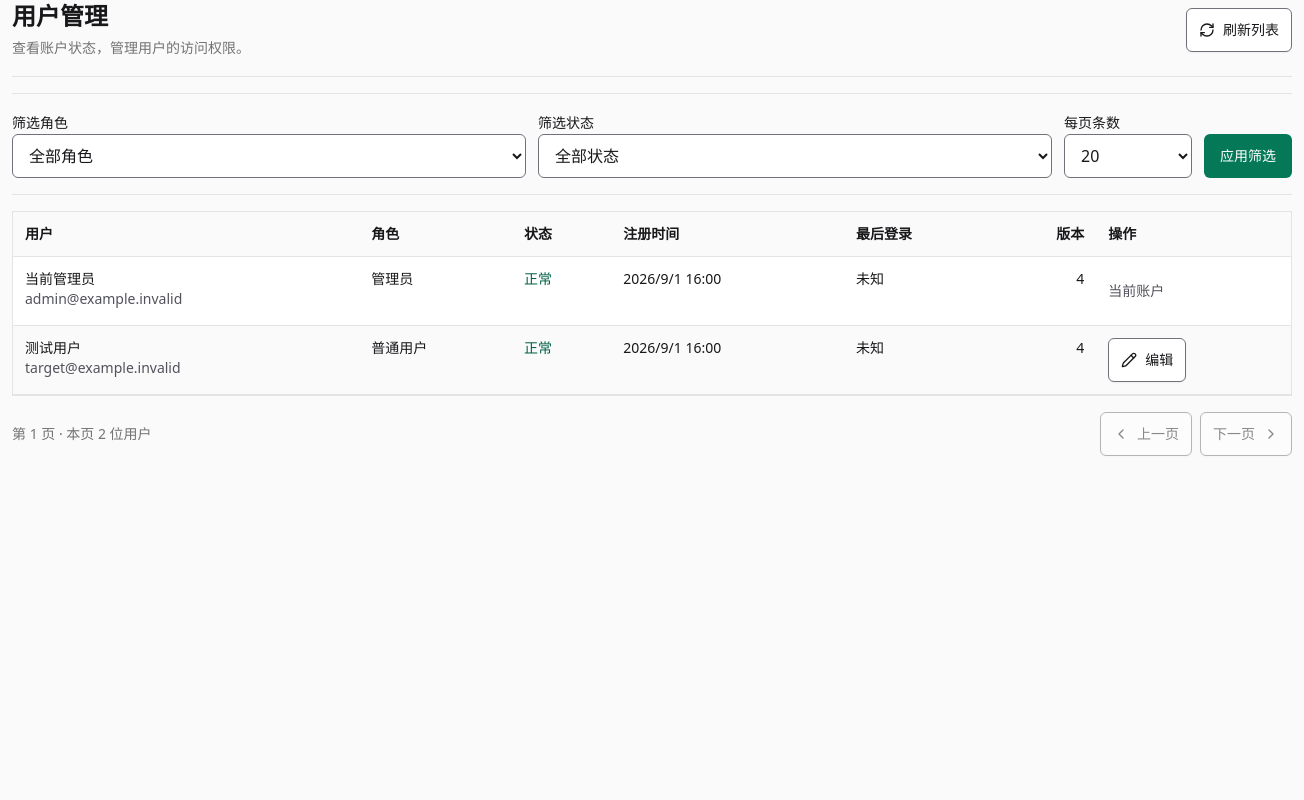
admin/users client › reports a same-value response truthfully without claiming session revocation
Expected: the text "第 1 页 · 本页 2 位用户" is shown, [12, 424, 152, 444]
Click the button "编辑" at (1147, 360), box [1108, 338, 1186, 382]
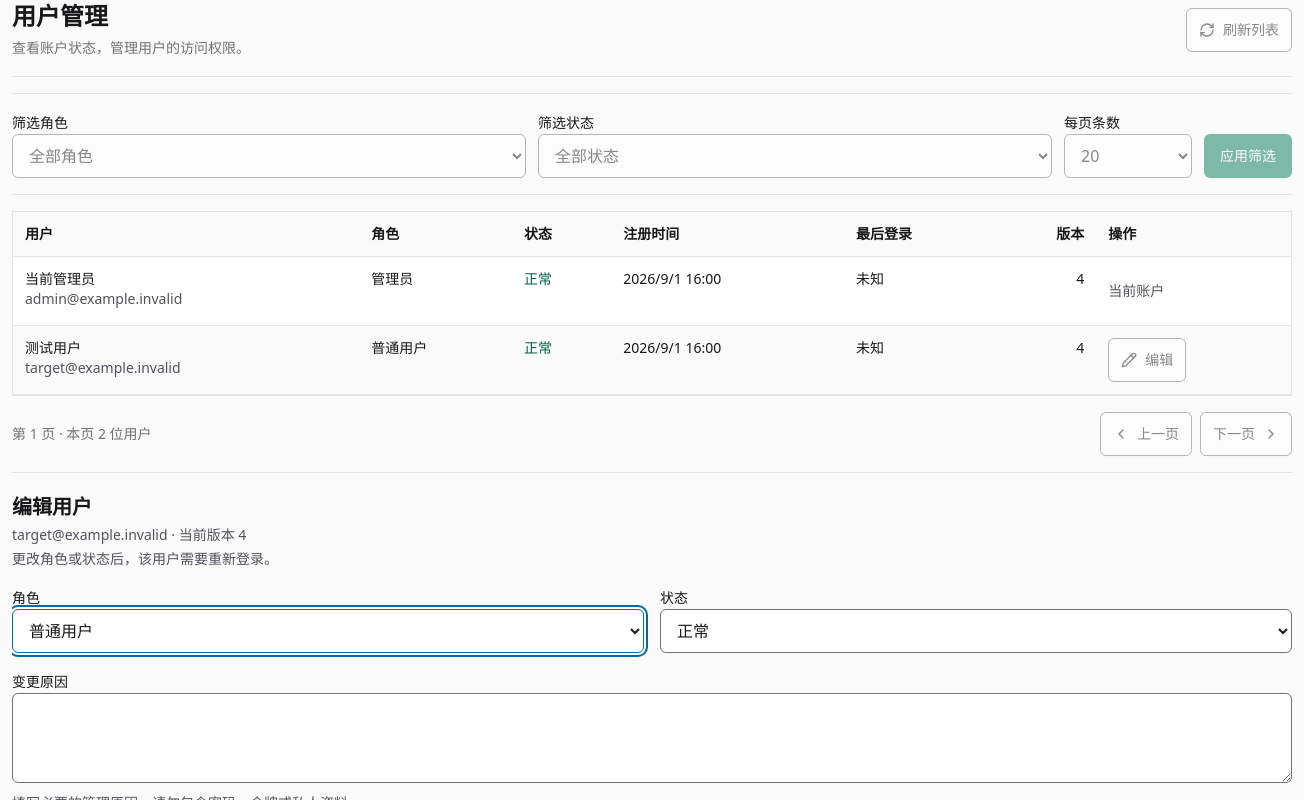
Type "复核账户" into the text box labelled "变更原因" at (652, 738), box [12, 693, 1292, 783]
(page scrolled)
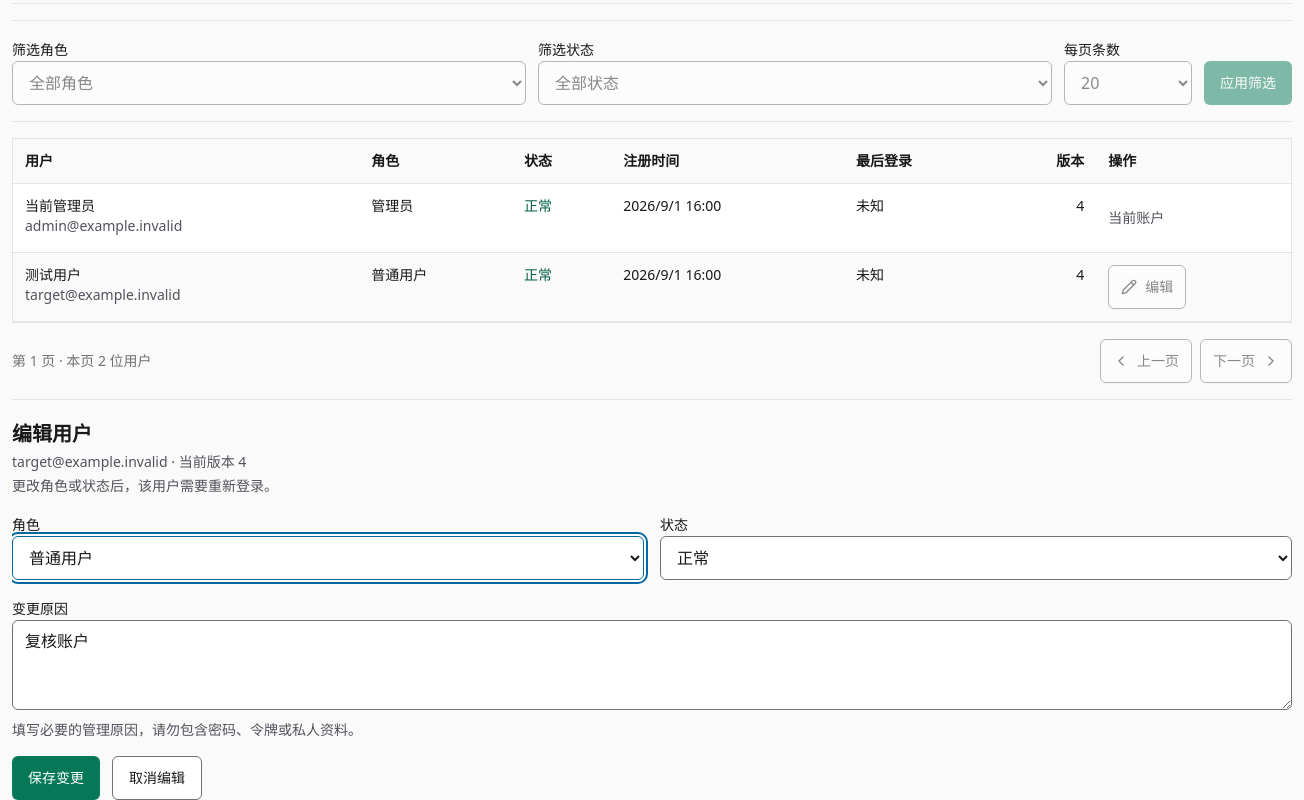
Submit the form "编辑用户", box [12, 399, 1292, 799]
(page scrolled)
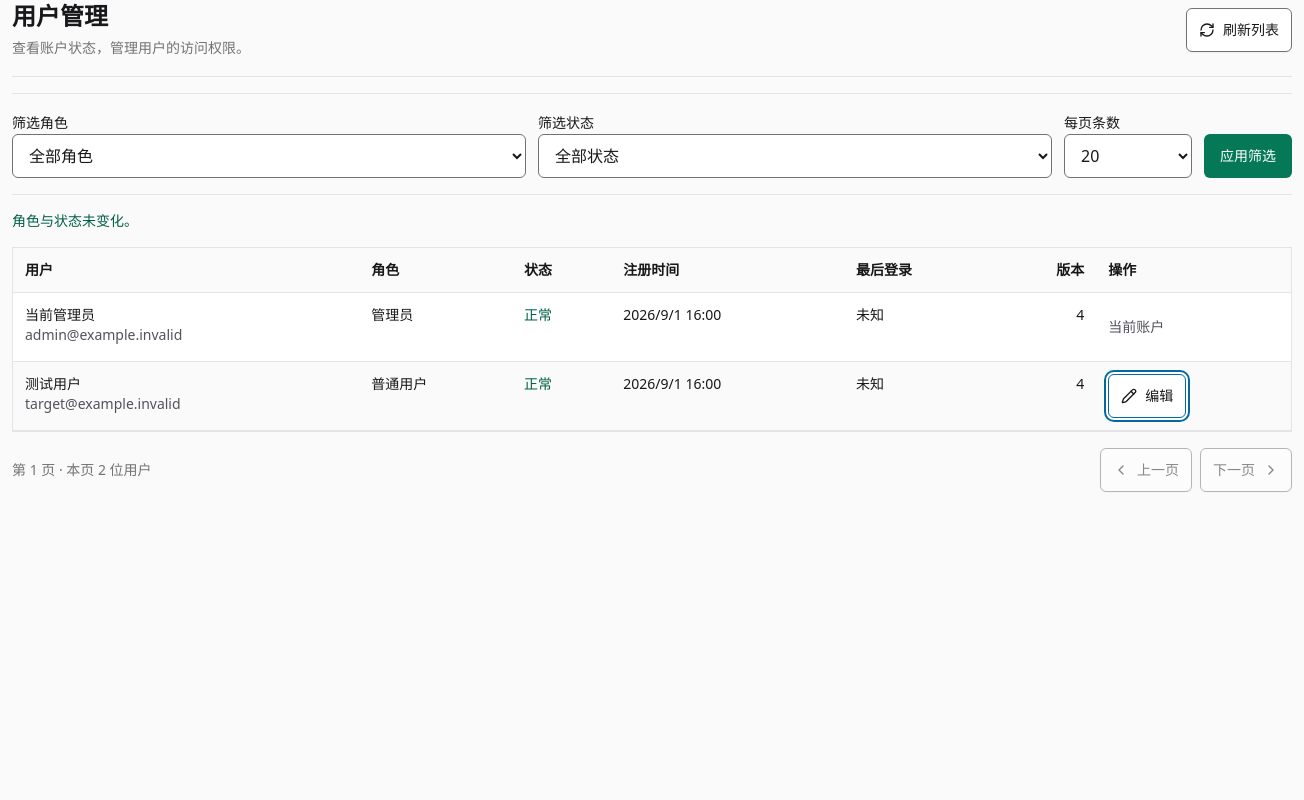
Expected: the message does not show "原有登录已失效", [12, 211, 138, 230]
Result: the message reads "角色与状态未变化。" at [12, 211, 138, 230]
